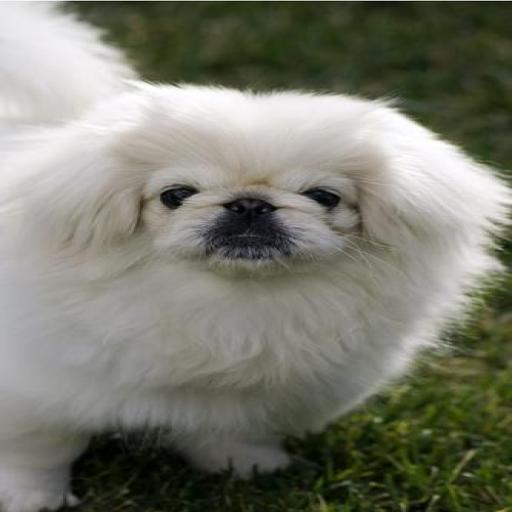dog_face: (75, 95, 494, 285)
